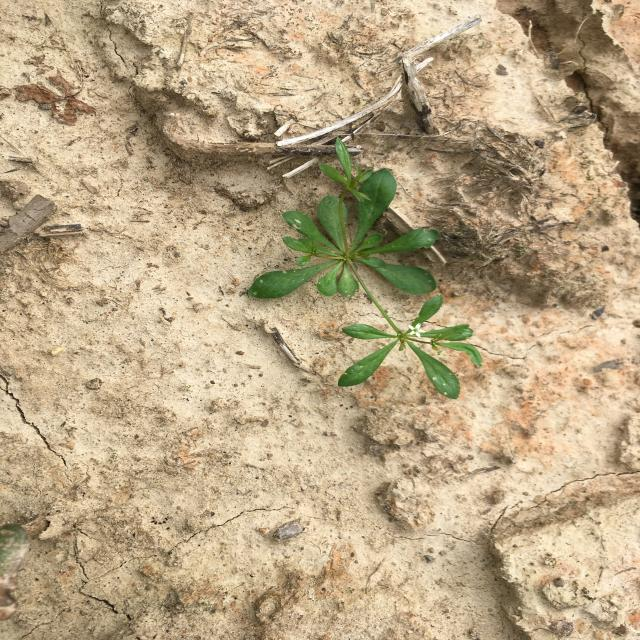Carpetweed: (248, 137, 483, 399)
